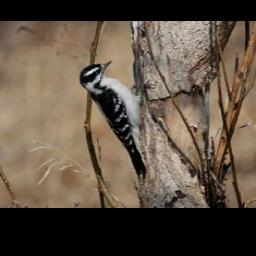Woodpecker: (78, 60, 156, 182)
